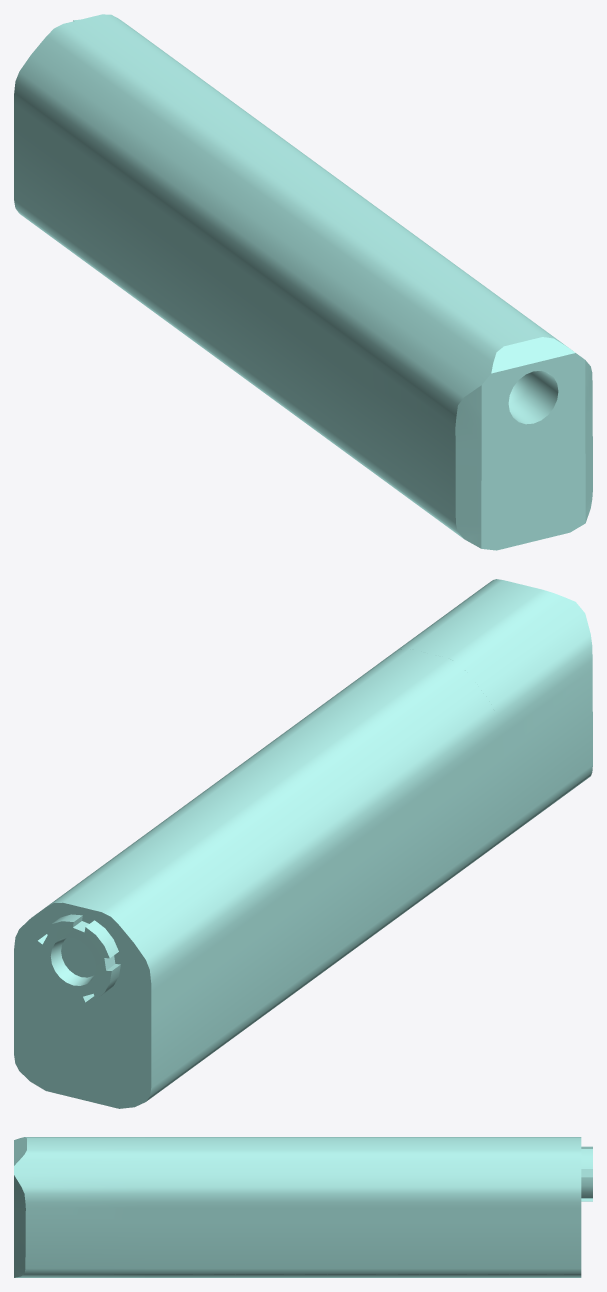
The model's file is shothun_supressor.fbx.
3 views of the same model, one above another, from view 1: azimuth 30°, elevation 25°; view 2: azimuth 150°, elevation 25°; view 3: azimuth 270°, elevation 25° (orthographic). The views are drawn at different scales.
Visible parts, largest first — view 1: suppressor; view 2: suppressor; view 3: suppressor.
Part boxes in pixels (box(x1,y1,x2,y2)): suppressor: box(14, 14, 592, 550); suppressor: box(14, 579, 592, 1108); suppressor: box(14, 1137, 592, 1277).
Bounding box in the file's own units: 2.24 × 3 × 13.01.
